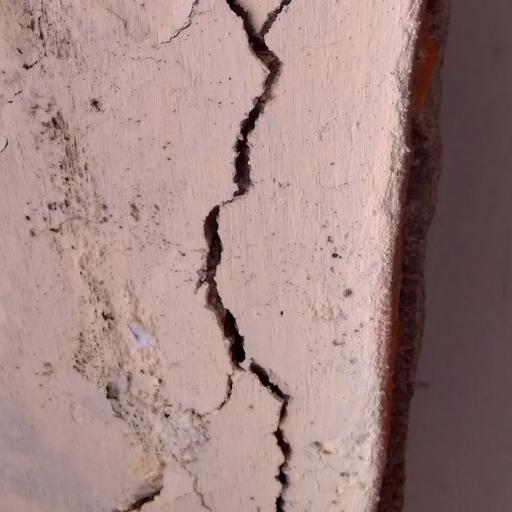major_crack: (179, 0, 303, 512)
